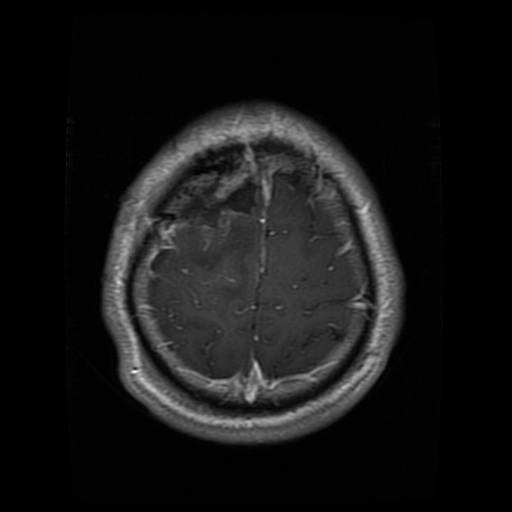glioma: (163, 161, 264, 227)
